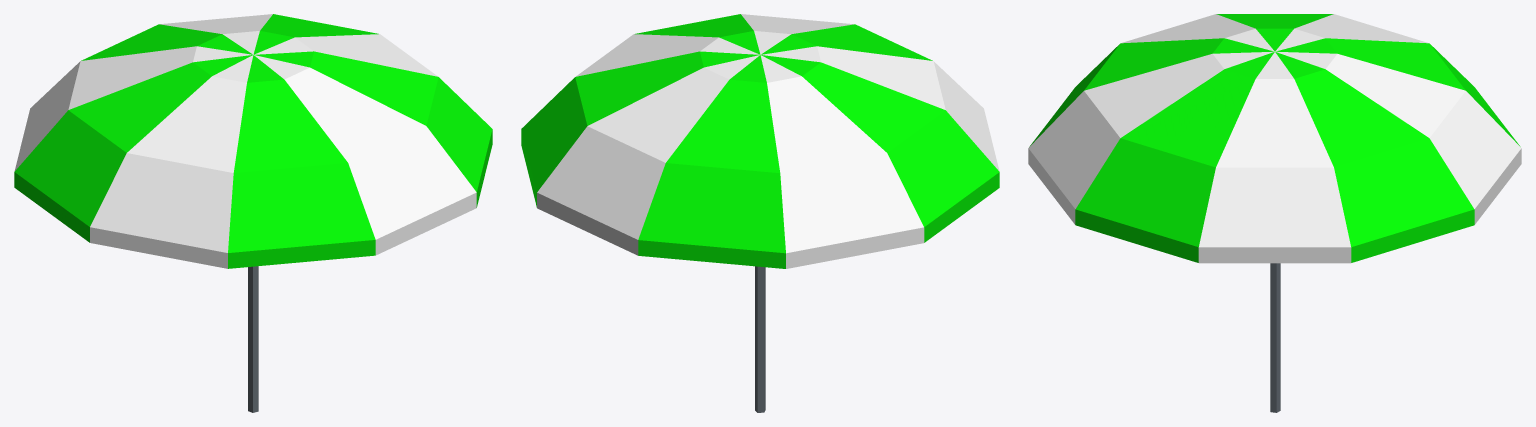
File: parasolgreen.fbx
3 renders of one model, left to right at view 1: azimuth 30°, elevation 25°; view 2: azimuth 150°, elevation 25°; view 3: azimuth 270°, elevation 25°, orthographic.
Parts seen in each view (by area): view 1: 円, 円柱; view 2: 円, 円柱; view 3: 円, 円柱.
Part boxes in pixels (x1,y1,x2,y2): 円: (14, 14, 492, 268); 円柱: (248, 266, 258, 412); 円: (521, 14, 999, 268); 円柱: (755, 266, 765, 412); 円: (1028, 14, 1521, 263); 円柱: (1270, 263, 1280, 412).
Bounding box in the file's own units: 163 × 137 × 171.
